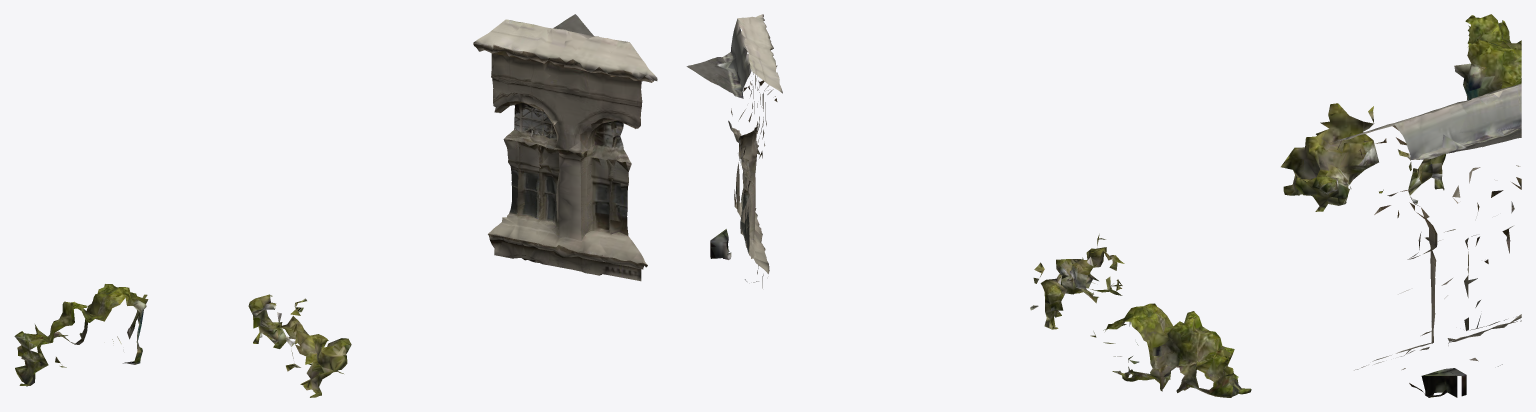
3 renders of one model, left to right at view 1: azimuth 30°, elevation 25°; view 2: azimuth 150°, elevation 25°; view 3: azimuth 270°, elevation 25°, orthographic. The views are drawn at different scales.
Size of the model in its own units: 28.57 by 11.02 by 8.8.
1 material, 1 textured.
